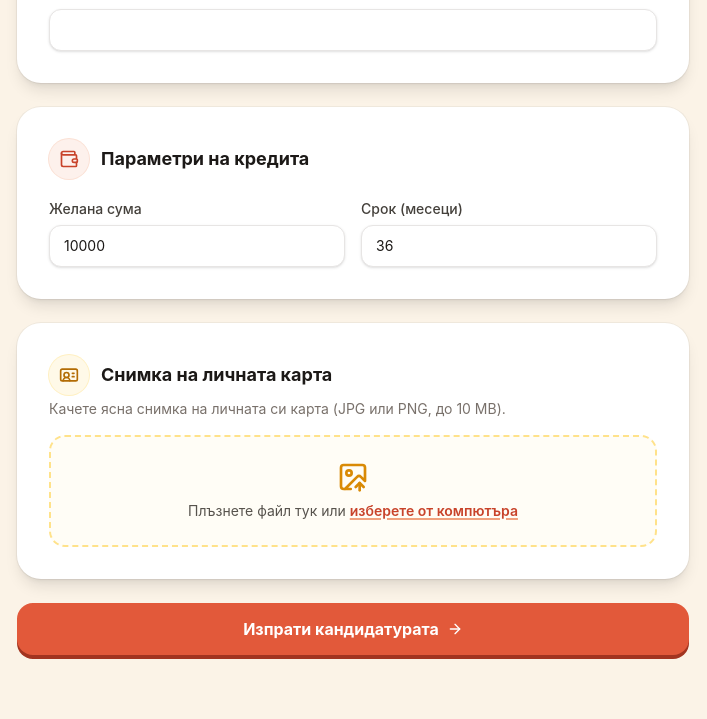
ApplyPage › blocks submission and shows an inline message for a missing required field
(page scrolled)
Note: Leave First name empty, submit directly.
Click the button "Изпрати кандидатурата" at (353, 629), box [17,603,689,655]
(page scrolled)
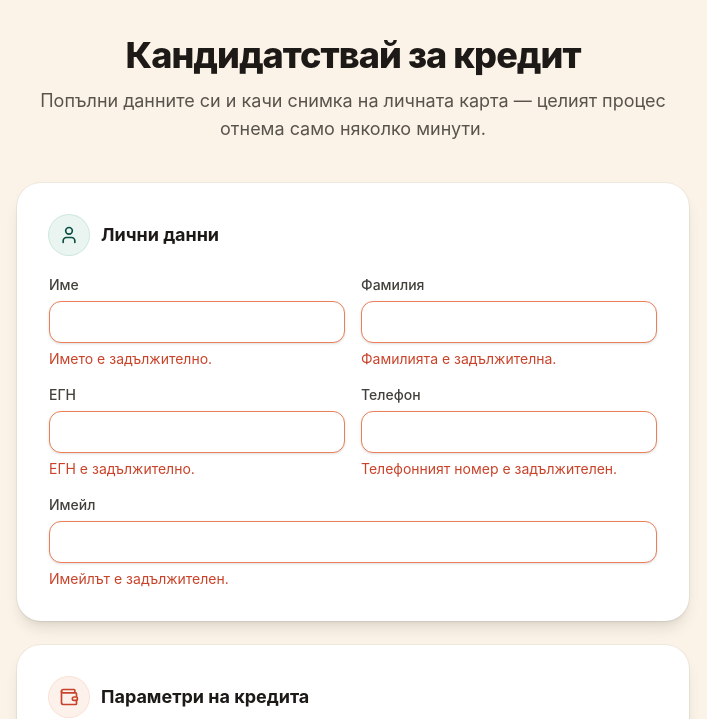
Check: the text "Името е задължително." is shown, box [49,350,212,367]
